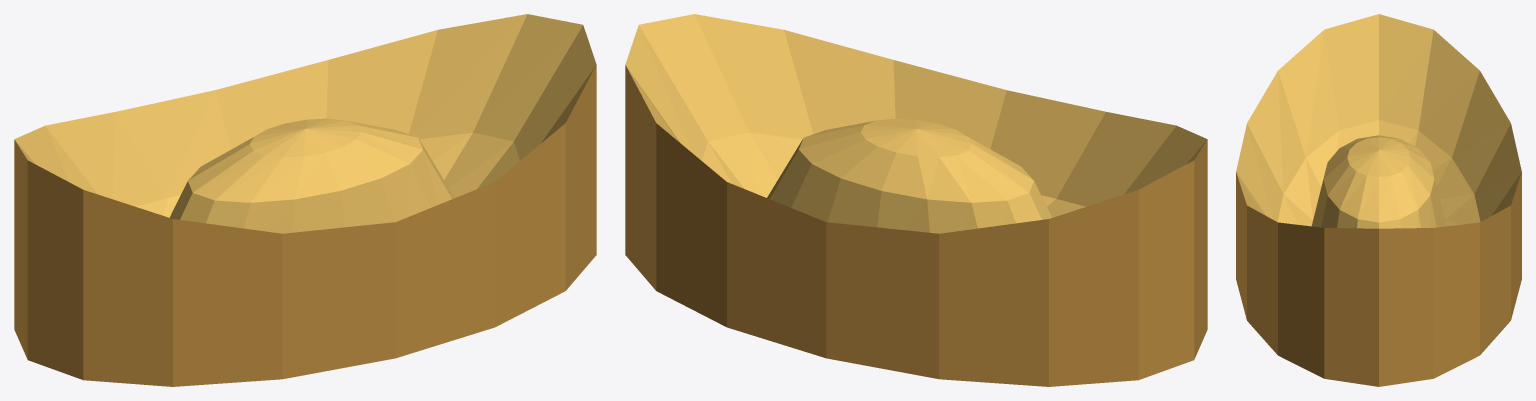
3 views of the same model, side by side, from view 1: azimuth 30°, elevation 25°; view 2: azimuth 150°, elevation 25°; view 3: azimuth 270°, elevation 25° (orthographic). The views are drawn at different scales.
Visible parts, largest first — view 1: IntegralRaisedEndBoatAndCentralCrown; view 2: IntegralRaisedEndBoatAndCentralCrown; view 3: IntegralRaisedEndBoatAndCentralCrown.
Boxes of the visible parts, bbox=[...] form: IntegralRaisedEndBoatAndCentralCrown: bbox=[14, 14, 596, 386]; IntegralRaisedEndBoatAndCentralCrown: bbox=[625, 14, 1207, 386]; IntegralRaisedEndBoatAndCentralCrown: bbox=[1236, 14, 1521, 386].
Bounding box in the file's own units: 0.32 × 0.11 × 0.18.
